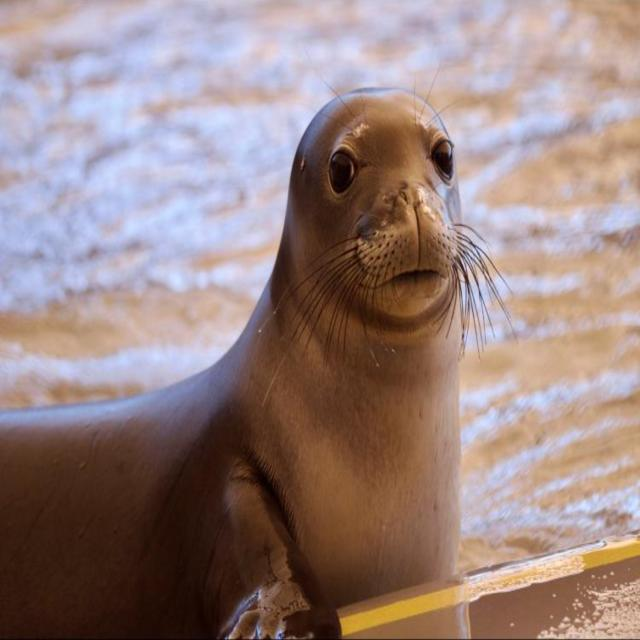WaterDog: (0, 80, 475, 640)
